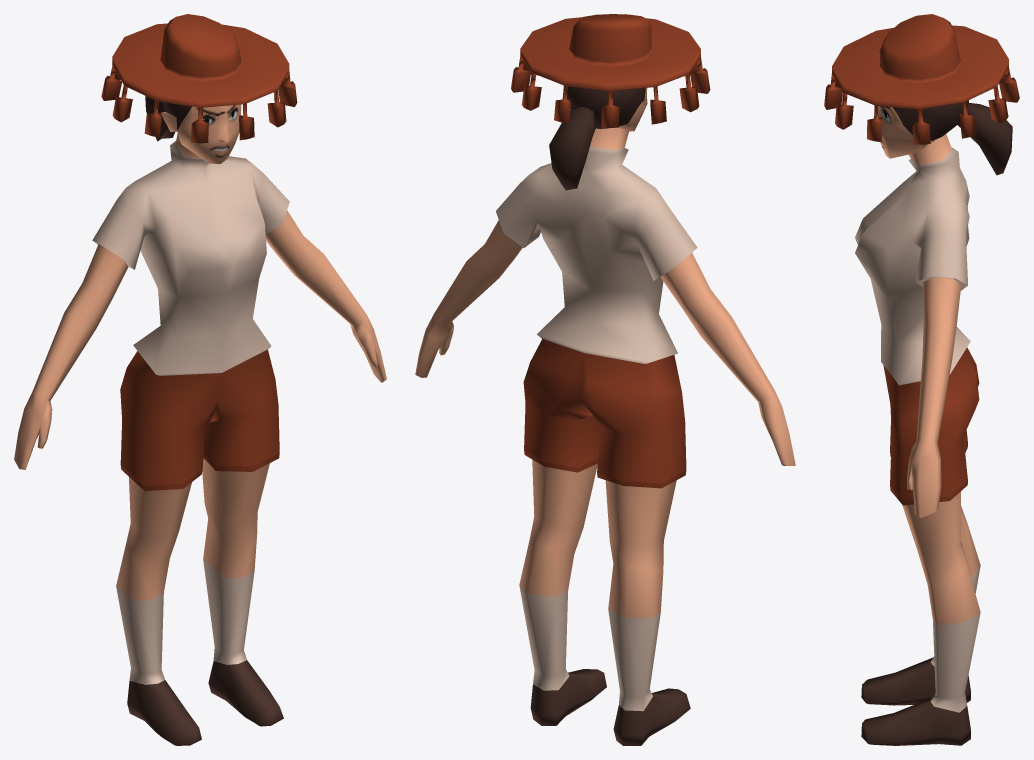
The model's file is CharStrayan.fbx.
3 views of the same model, side by side, from view 1: azimuth 30°, elevation 25°; view 2: azimuth 150°, elevation 25°; view 3: azimuth 270°, elevation 25° (orthographic). The views are drawn at different scales.
Visible parts, largest first — view 1: CharStrayan; view 2: CharStrayan; view 3: CharStrayan.
Part boxes in pixels (x1=…): CharStrayan: x1=14, y1=14, x2=386, y2=745; CharStrayan: x1=415, y1=14, x2=795, y2=745; CharStrayan: x1=824, y1=14, x2=1019, y2=745.
Bounding box in the file's own units: 102 × 183 × 46.82.
